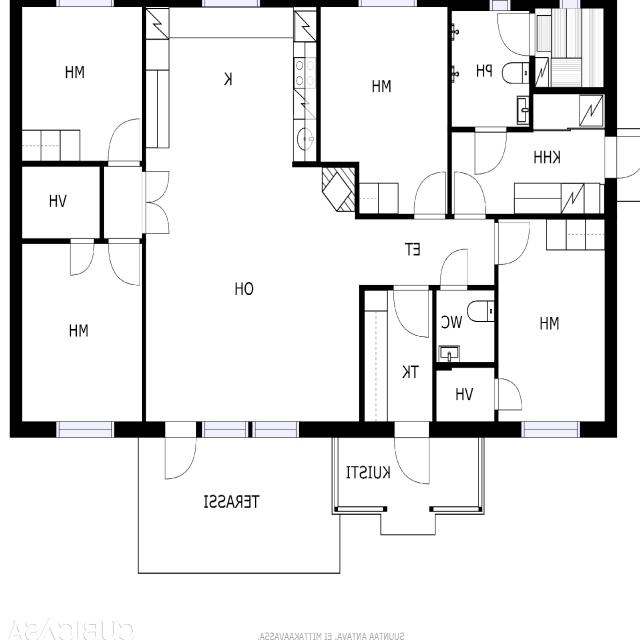door: (394, 421, 428, 484), (393, 284, 429, 336), (165, 421, 196, 478), (498, 13, 535, 55), (108, 118, 140, 166), (604, 136, 640, 178), (108, 238, 140, 285), (475, 126, 506, 174), (494, 222, 529, 264), (454, 172, 485, 219), (414, 172, 445, 219), (440, 248, 467, 290), (70, 238, 94, 275), (494, 378, 521, 409), (142, 202, 168, 233), (142, 172, 168, 202)
